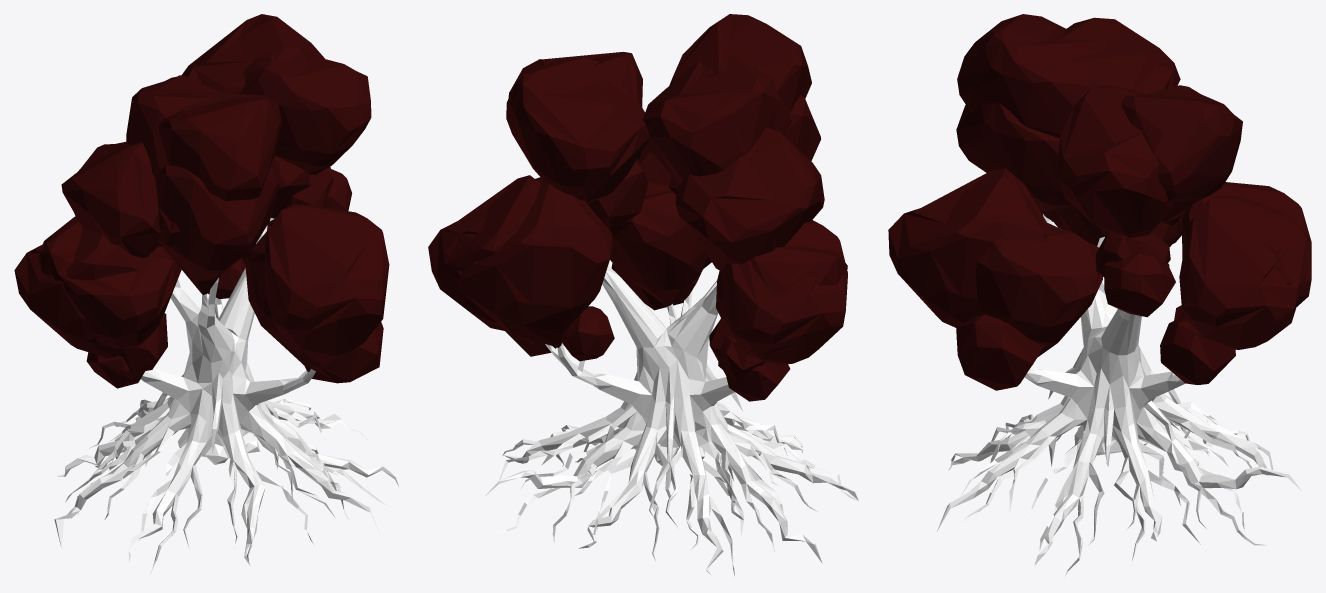
File: TreeKapokier01.fbx
3 views of the same model, side by side, from view 1: azimuth 30°, elevation 25°; view 2: azimuth 150°, elevation 25°; view 3: azimuth 270°, elevation 25° (orthographic). The views are drawn at different scales.
Visible parts, largest first — view 1: TreeKapokier01_LOD0; view 2: TreeKapokier01_LOD0; view 3: TreeKapokier01_LOD0.
Part boxes in pixels (x1,y1,x2,y2): TreeKapokier01_LOD0: [14, 14, 398, 576]; TreeKapokier01_LOD0: [428, 14, 858, 575]; TreeKapokier01_LOD0: [888, 14, 1311, 577].
Size of what is drawn, in the model's own units: 1928 by 2479 by 1981.
